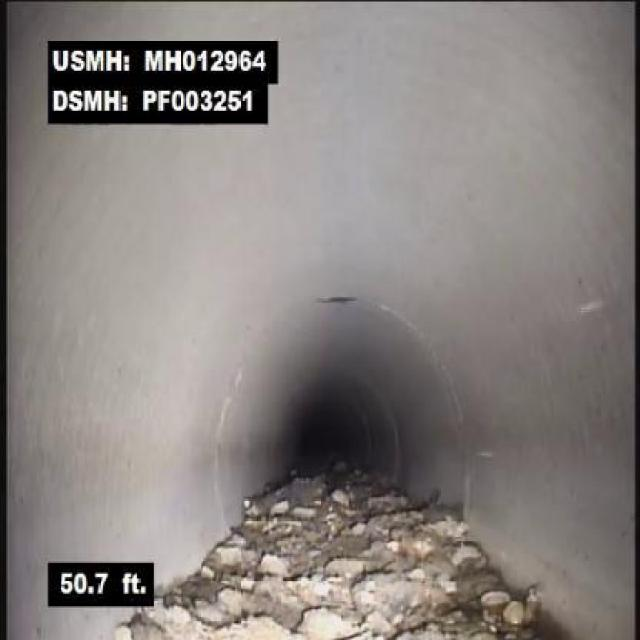Obstacle: (154, 488, 537, 638)
